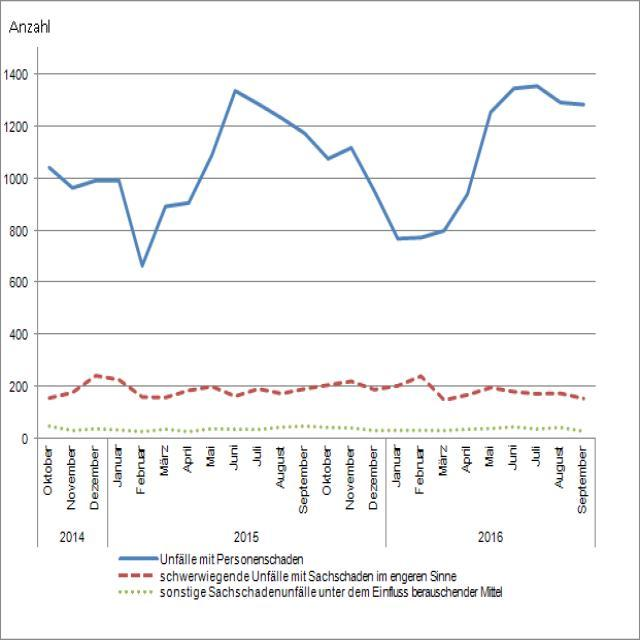axis: (33, 430, 607, 443), (32, 38, 45, 448)
line: (46, 82, 587, 271)
